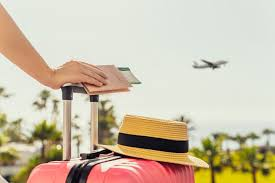suitcase: (25, 79, 199, 183)
